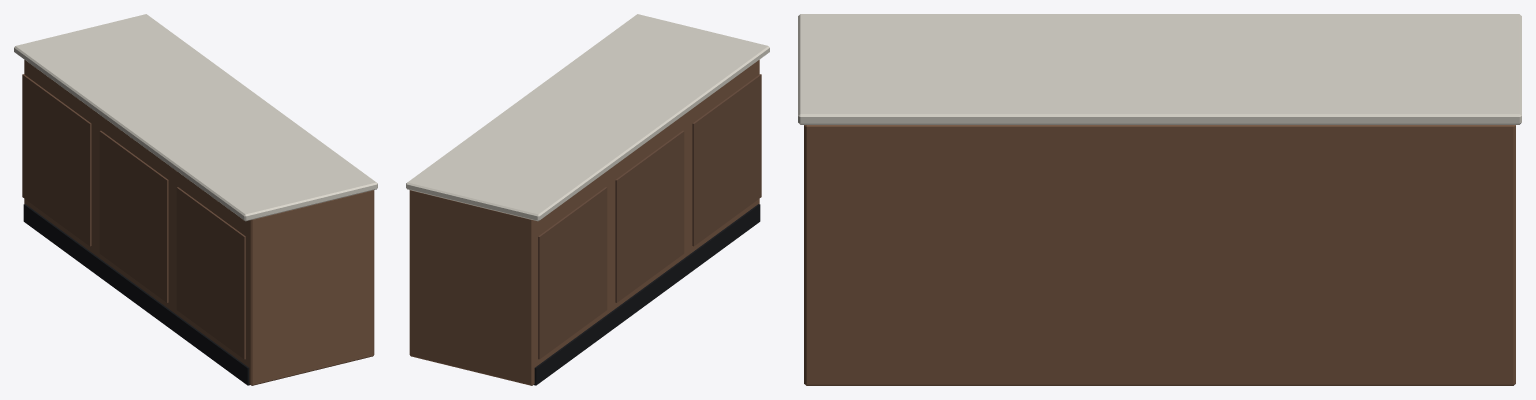
The model's file is counter.glb.
3 views of the same model, side by side, from view 1: azimuth 30°, elevation 25°; view 2: azimuth 150°, elevation 25°; view 3: azimuth 270°, elevation 25° (orthographic). The views are drawn at different scales.
Parts seen in each view (by area): view 1: counter; view 2: counter; view 3: counter.
Boxes of the visible parts, x1,y1,x2,y2 form: counter: (14,14,377,385); counter: (406,14,769,385); counter: (798,14,1521,385).
Size of the model in its own units: 0.8 by 1 by 2.4.
